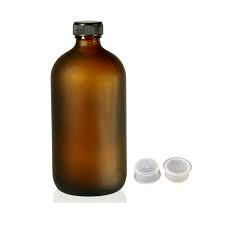glass_bottle: (42, 16, 135, 206)
